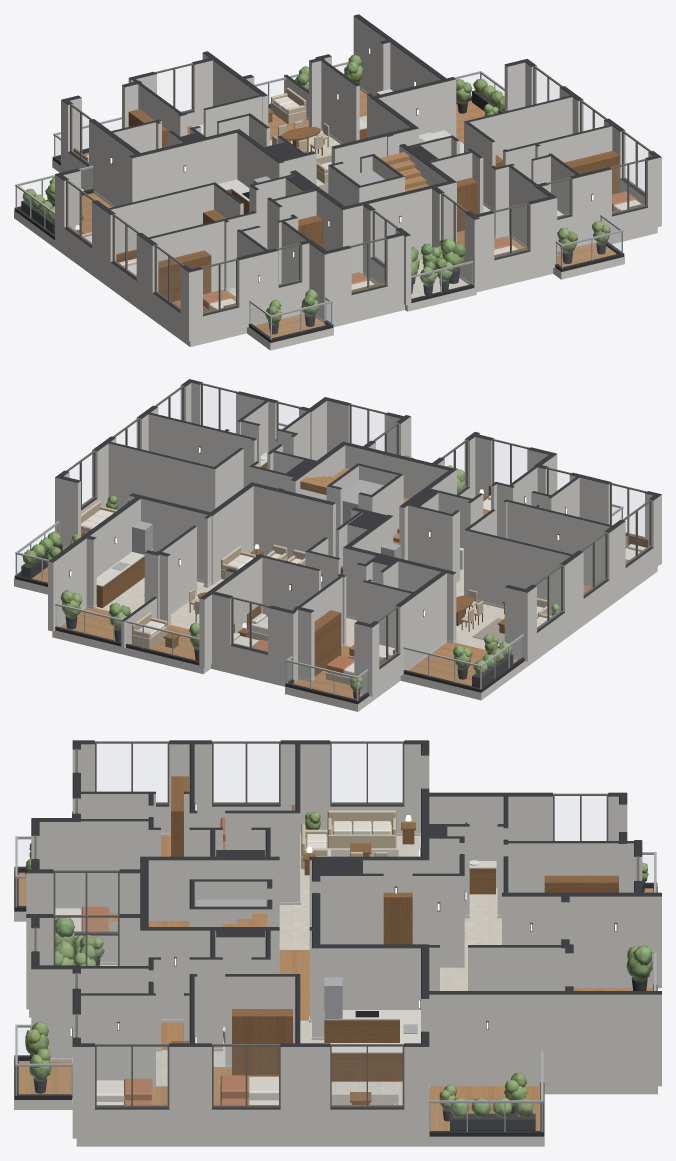
The model's file is residence-floor.glb.
3 renders of one model, top to bottom at view 1: azimuth 30°, elevation 25°; view 2: azimuth 150°, elevation 25°; view 3: azimuth 270°, elevation 25°, orthographic. The views are drawn at different scales.
Visible parts, largest first — view 1: walls_plaster, wall_caps_planters, joinery, frames_fixtures, plants, floors_oak_stairs, railings_appliances_lift, upholstery, glazing, bedding_cushions, floors_stone, throws (+2 smaller); view 2: walls_plaster, wall_caps_planters, frames_fixtures, floors_oak_stairs, railings_appliances_lift, joinery, plants, upholstery, floors_stone, bedding_cushions, glazing, skirting (+2 smaller); view 3: walls_plaster, wall_caps_planters, joinery, frames_fixtures, floors_oak_stairs, floors_stone, plants, railings_appliances_lift, bedding_cushions, upholstery, throws, countertops (+3 smaller).
Part boxes in pixels (x1,y1,x2,y2): walls_plaster: [14, 16, 661, 350]; wall_caps_planters: [14, 14, 661, 342]; joinery: [73, 93, 644, 312]; frames_fixtures: [66, 47, 651, 314]; plants: [22, 54, 610, 324]; floors_oak_stairs: [14, 89, 624, 343]; railings_appliances_lift: [15, 61, 623, 339]; upholstery: [75, 87, 331, 310]; glazing: [17, 128, 644, 322]; bedding_cushions: [85, 96, 640, 310]; floors_stone: [228, 115, 490, 302]; throws: [136, 126, 636, 309]; walls_plaster: [14, 383, 661, 711]; wall_caps_planters: [14, 379, 661, 704]; frames_fixtures: [66, 383, 651, 666]; floors_oak_stairs: [16, 468, 523, 703]; railings_appliances_lift: [15, 422, 623, 700]; joinery: [81, 462, 648, 676]; plants: [22, 428, 559, 691]; upholstery: [81, 498, 557, 684]; floors_stone: [96, 569, 504, 649]; bedding_cushions: [81, 495, 645, 677]; glazing: [17, 425, 644, 681]; skirting: [54, 546, 526, 696]; walls_plaster: [14, 744, 661, 1146]; wall_caps_planters: [14, 740, 661, 1136]; joinery: [171, 776, 618, 1104]; frames_fixtures: [34, 741, 639, 1107]; floors_oak_stairs: [14, 836, 657, 1136]; floors_stone: [99, 836, 501, 1104]; plants: [25, 812, 652, 1117]; railings_appliances_lift: [15, 836, 656, 1131]; bedding_cushions: [55, 821, 390, 1104]; upholstery: [109, 810, 396, 1104]; throws: [81, 817, 249, 1104]; countertops: [324, 861, 496, 1053].
Size of what is drawn, in the model's own units: 19.95 by 3.1 by 17.84.
Materials: 18 (7 with a texture image).
